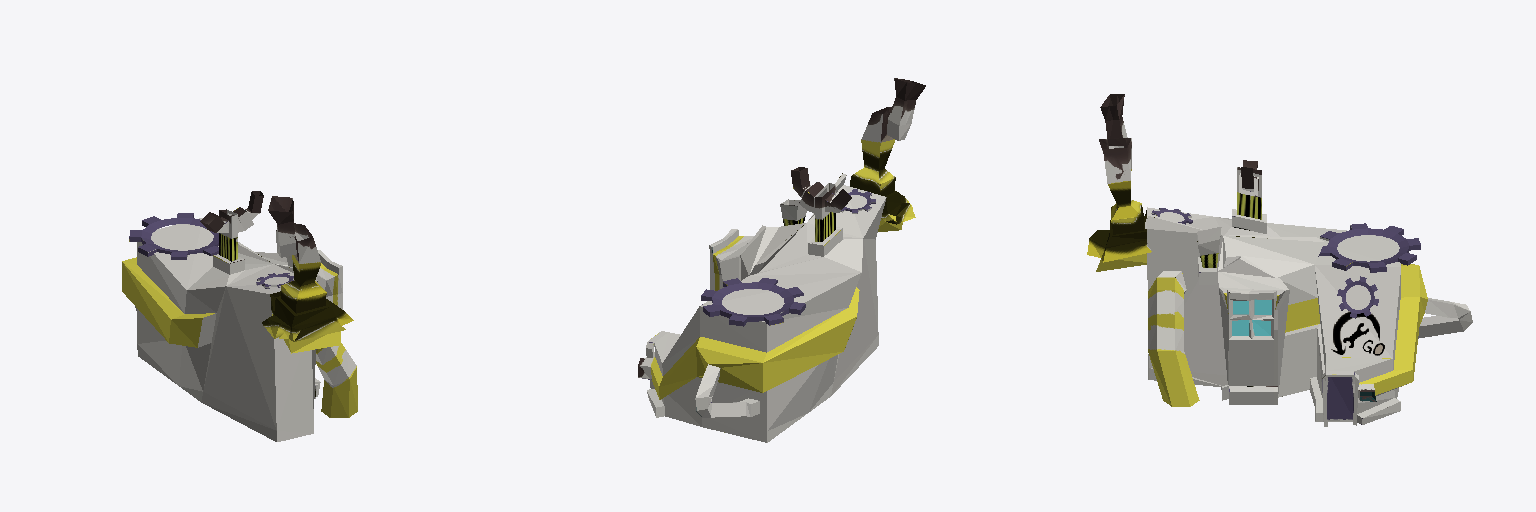
The picture shows the model from 3 angles: view 1: azimuth 30°, elevation 25°; view 2: azimuth 150°, elevation 25°; view 3: azimuth 270°, elevation 25°; orthographic projection.
Parts seen in each view (by area): view 1: Building; view 2: Building; view 3: Building.
Part boxes in pixels (left/top/right/bottom): Building: left=122, top=191, right=357, bottom=441; Building: left=638, top=78, right=925, bottom=442; Building: left=1087, top=94, right=1472, bottom=426.
Size of the model in its own units: 4.86 by 7.02 by 9.32.
Materials: 1 (1 with a texture image).